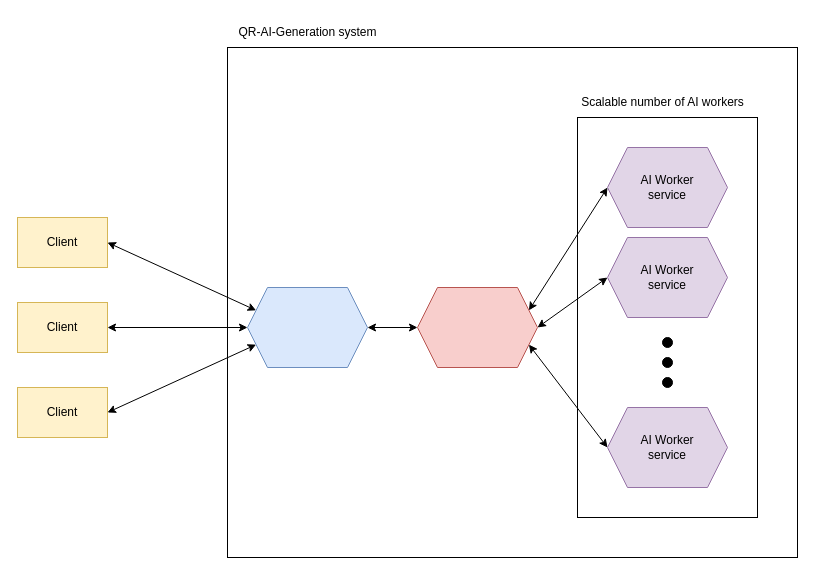
Image size: 815x575. Some labels were removed from this diagram. The shapes that lost their labels are listed below. From the top down, each one's centre as x and y in pixels, then its label:
At [307,327]: "Web Server service".
At [477,327]: "Redis service".
